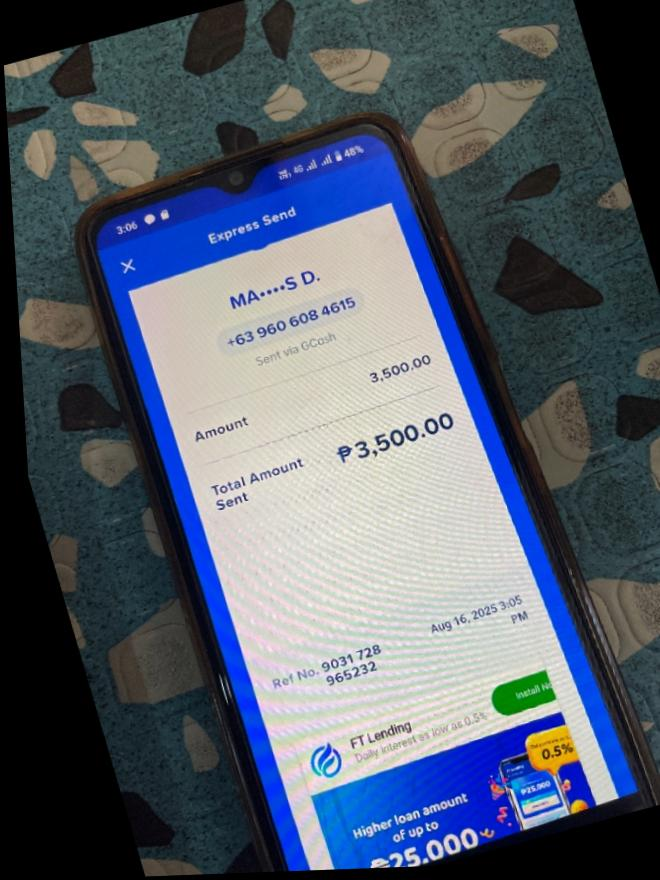Receipt: (98, 154, 642, 871)
